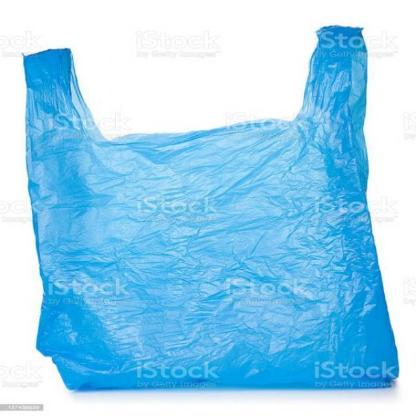Plastic Bag: (23, 25, 400, 393)
